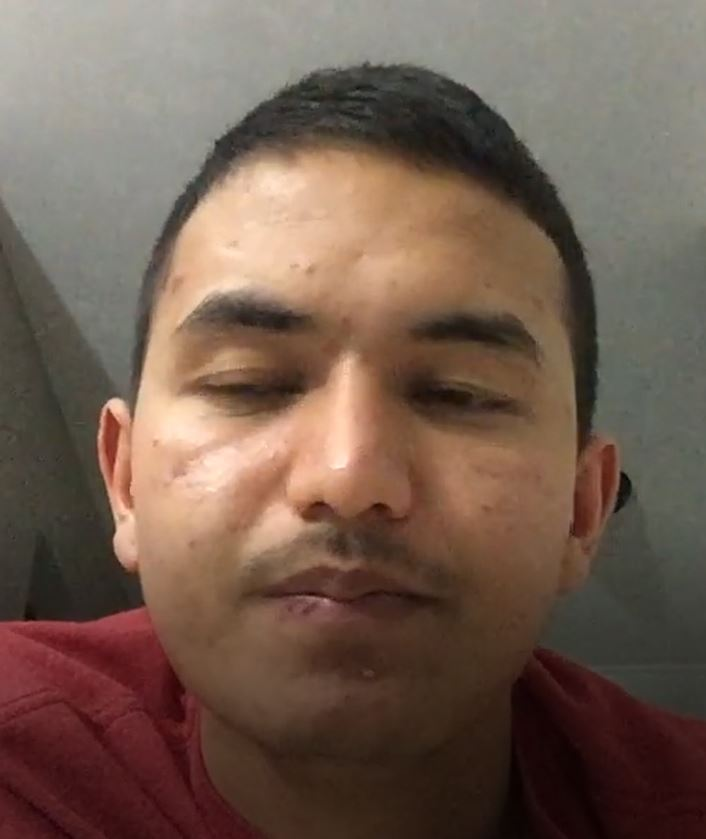Sleeping: (160, 324, 555, 449)
